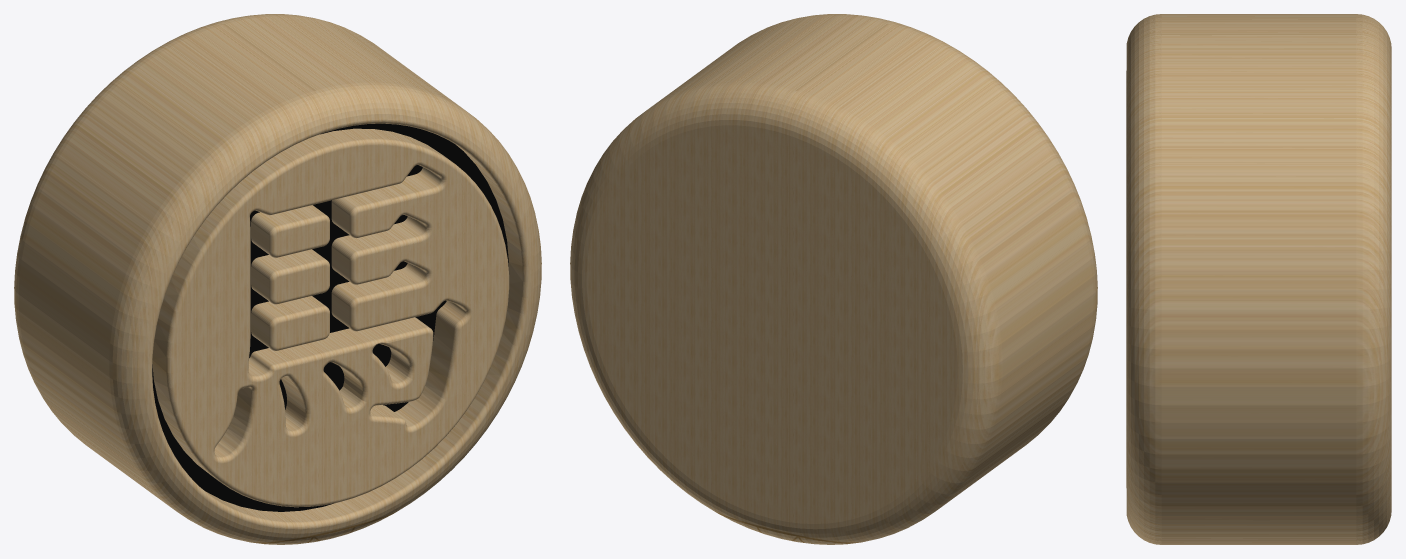
File: h01_chess_black_horse.obj
3 renders of one model, left to right at view 1: azimuth 30°, elevation 25°; view 2: azimuth 150°, elevation 25°; view 3: azimuth 270°, elevation 25°, orthographic. The views are drawn at different scales.
Bounding box in the file's own units: 0.03 × 0.03 × 0.015.
2 materials, 1 textured.
